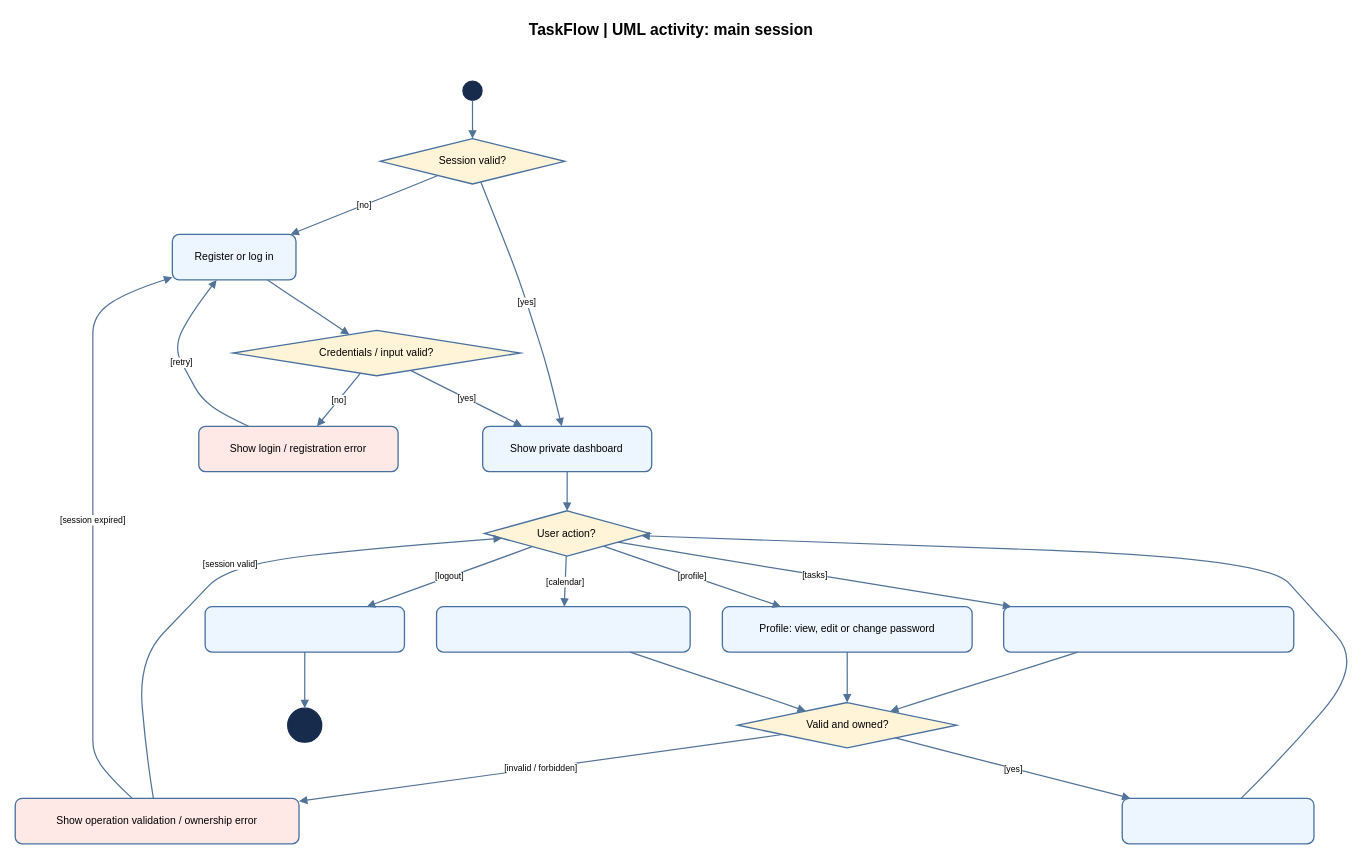
Some shapes in this 1362 by 860 pixel diagram are drawn without their labels. The shapes that lost their labels are listed below. From the top down, each one's box as (x1, y1, x2, y2) in pixels, then its label:
(204, 606, 405, 652): End session and clear access
(436, 606, 690, 652): Calendar: month, date and task details
(1003, 606, 1294, 652): Task CRUD / complete; list filters and sorting
(1121, 797, 1314, 844): Return updated private view
